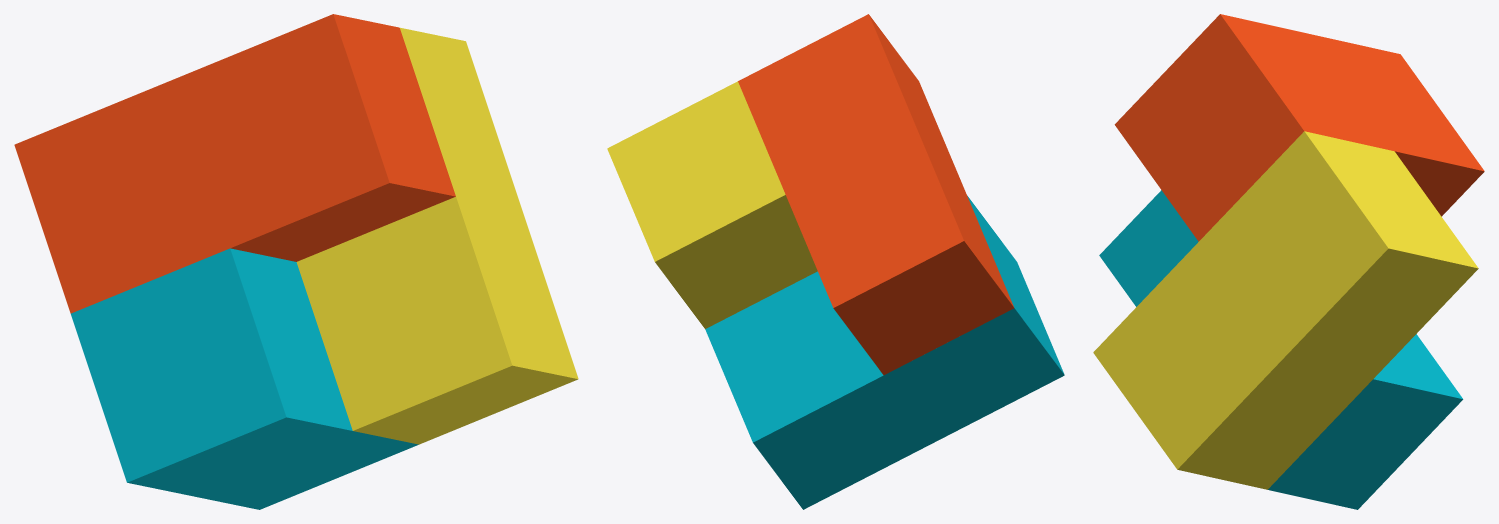
Rendered from group595062873_lev3.013.glb.
3 renders of one model, left to right at view 1: azimuth 30°, elevation 25°; view 2: azimuth 150°, elevation 25°; view 3: azimuth 270°, elevation 25°, orthographic. The views are drawn at different scales.
Visible parts, largest first — view 1: group595062873_lev3.013; view 2: group595062873_lev3.013; view 3: group595062873_lev3.013.
Part boxes in pixels (left/top/right/bottom): group595062873_lev3.013: left=14, top=14, right=578, bottom=509; group595062873_lev3.013: left=607, top=14, right=1064, bottom=509; group595062873_lev3.013: left=1093, top=14, right=1484, bottom=509.
Bounding box in the file's own units: 3.25 × 3.81 × 2.74.
